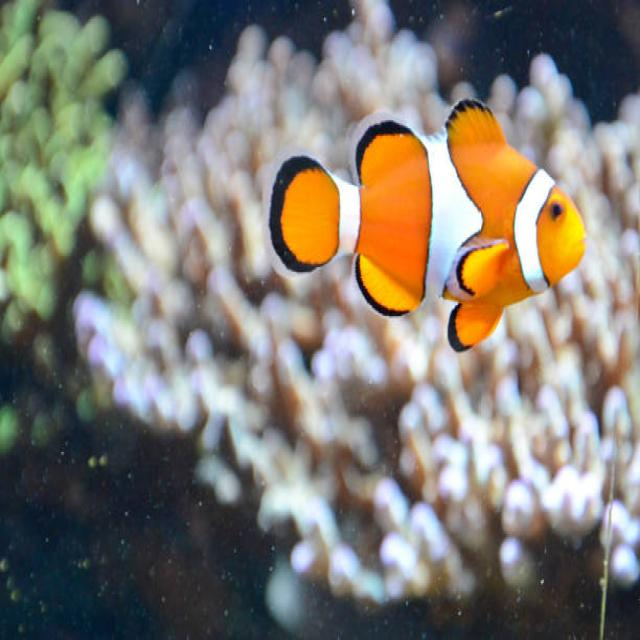ClownFish: (266, 103, 588, 354)
